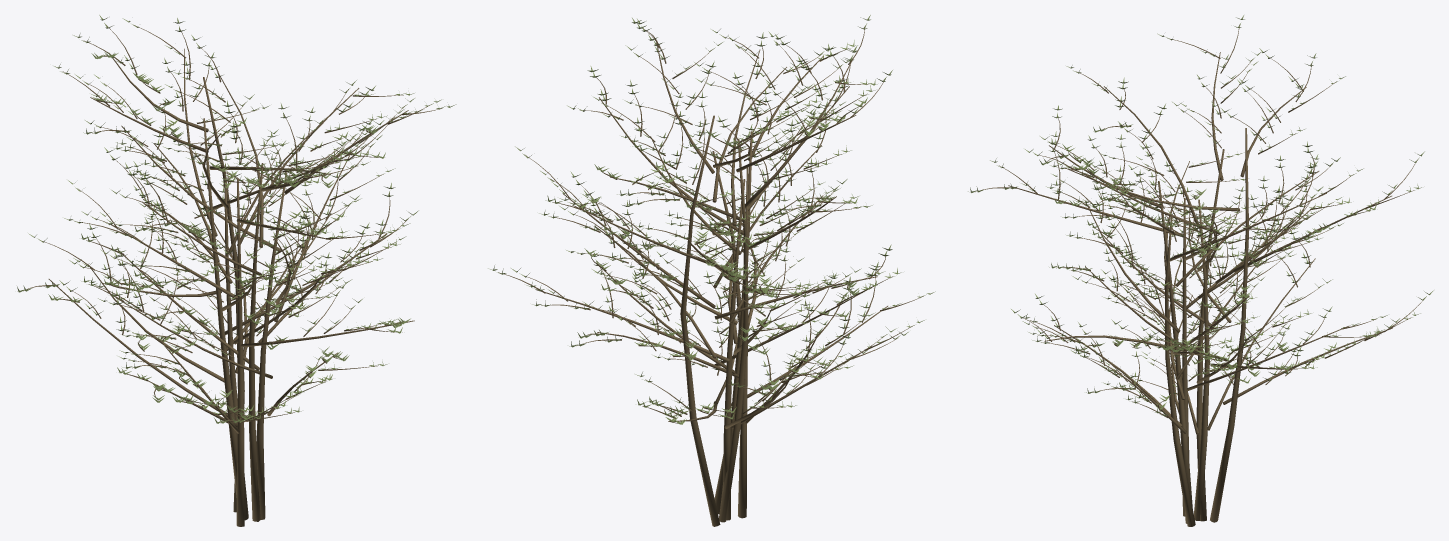
The model's file is Bruyere_0_LOD0.fbx.
3 views of the same model, side by side, from view 1: azimuth 30°, elevation 25°; view 2: azimuth 150°, elevation 25°; view 3: azimuth 270°, elevation 25° (orthographic). The views are drawn at different scales.
Parts seen in each view (by area): view 1: Bruyere_0_LOD0; view 2: Bruyere_0_LOD0; view 3: Bruyere_0_LOD0.
Part boxes in pixels (bbox=[...]): Bruyere_0_LOD0: bbox=[17, 15, 456, 526]; Bruyere_0_LOD0: bbox=[488, 15, 935, 526]; Bruyere_0_LOD0: bbox=[968, 15, 1433, 526].
Bounding box in the file's own units: 226 × 281 × 276.
